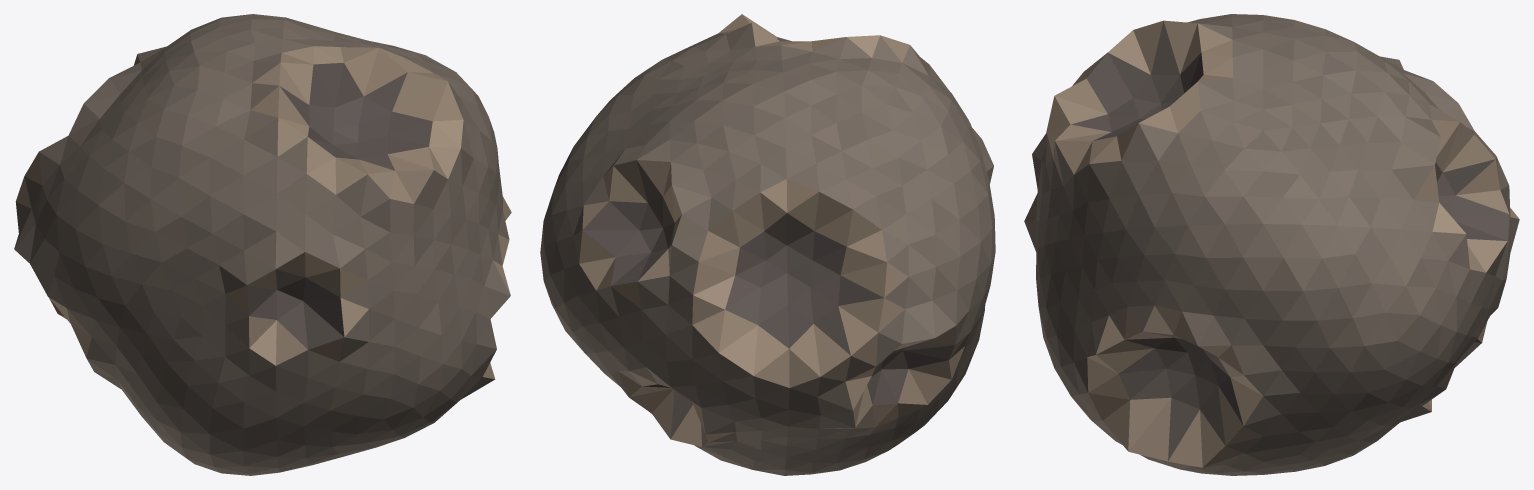
Rendered from asteroid-cratered.glb.
3 views of the same model, side by side, from view 1: azimuth 30°, elevation 25°; view 2: azimuth 150°, elevation 25°; view 3: azimuth 270°, elevation 25° (orthographic). The views are drawn at different scales.
Parts seen in each view (by area): view 1: Cratered chondrite; view 2: Cratered chondrite; view 3: Cratered chondrite.
Part boxes in pixels (x1,y1,x2,y2): Cratered chondrite: [14, 14, 511, 475]; Cratered chondrite: [540, 14, 995, 475]; Cratered chondrite: [1024, 14, 1519, 475].
Size of the model in its own units: 1.79 by 1.72 by 1.81.
